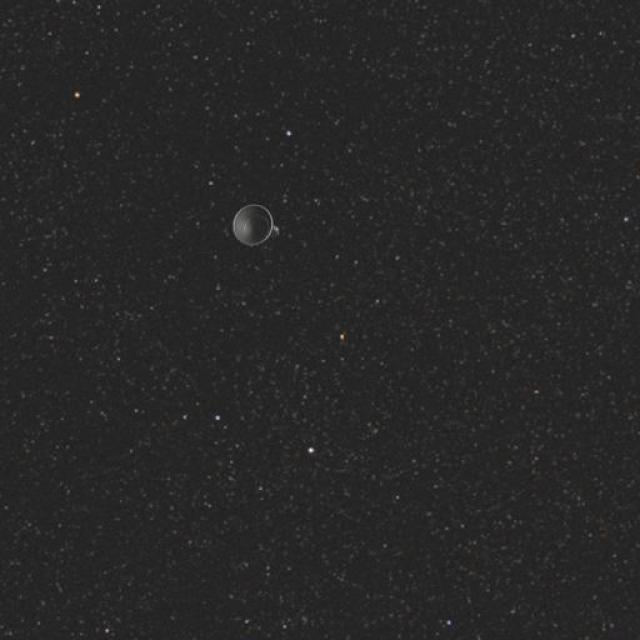debris: (215, 188, 294, 255)
